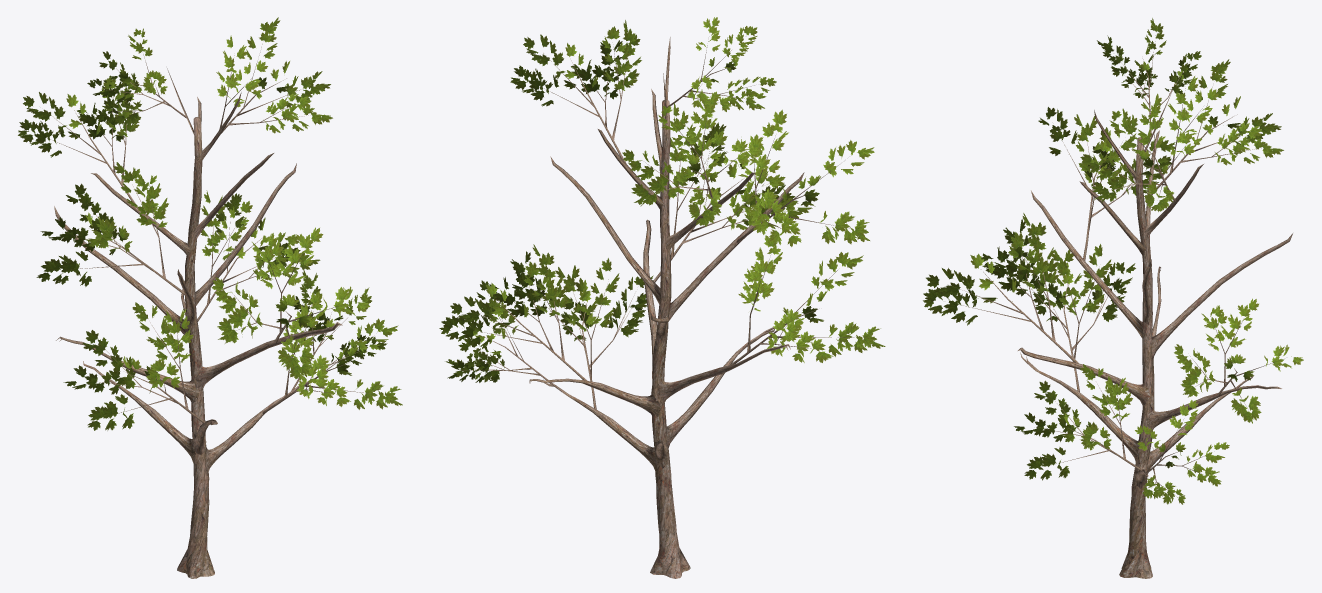
File: maple10.obj
3 views of the same model, side by side, from view 1: azimuth 30°, elevation 25°; view 2: azimuth 150°, elevation 25°; view 3: azimuth 270°, elevation 25° (orthographic). The views are drawn at different scales.
Visible parts, largest first — view 1: leaf maple, bark02; view 2: leaf maple, bark02; view 3: leaf maple, bark02.
Part boxes in pixels (left/top/right/bottom): leaf maple: left=18, top=17, right=402, bottom=430; bark02: left=48, top=47, right=377, bottom=578; leaf maple: left=439, top=17, right=885, bottom=382; bark02: left=460, top=37, right=854, bottom=578; leaf maple: left=923, top=18, right=1303, bottom=504; bark02: left=960, top=35, right=1292, bottom=578.
Size of the model in its own units: 559 by 781 by 517.
Materials: 2 (2 with a texture image).
